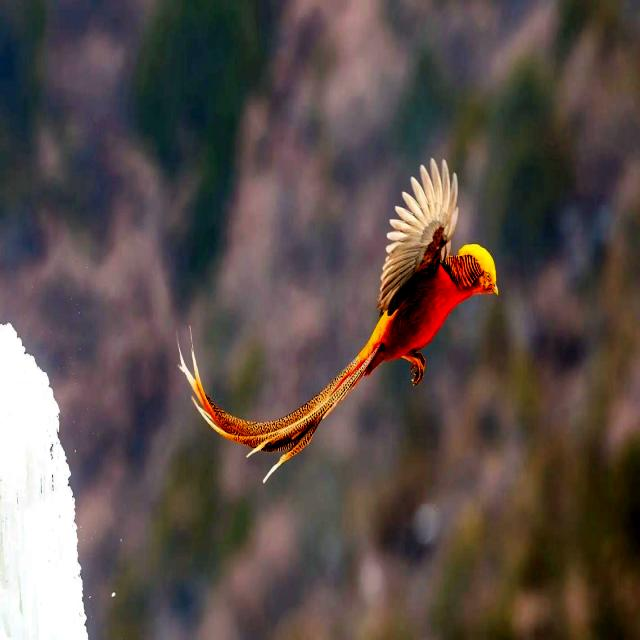Chrysolophus pictus feather: (176, 324, 382, 483)
